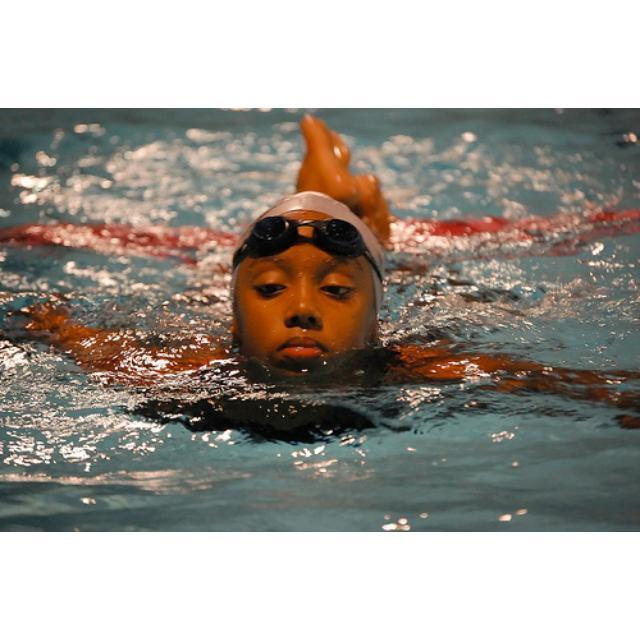human: (25, 117, 634, 433)
